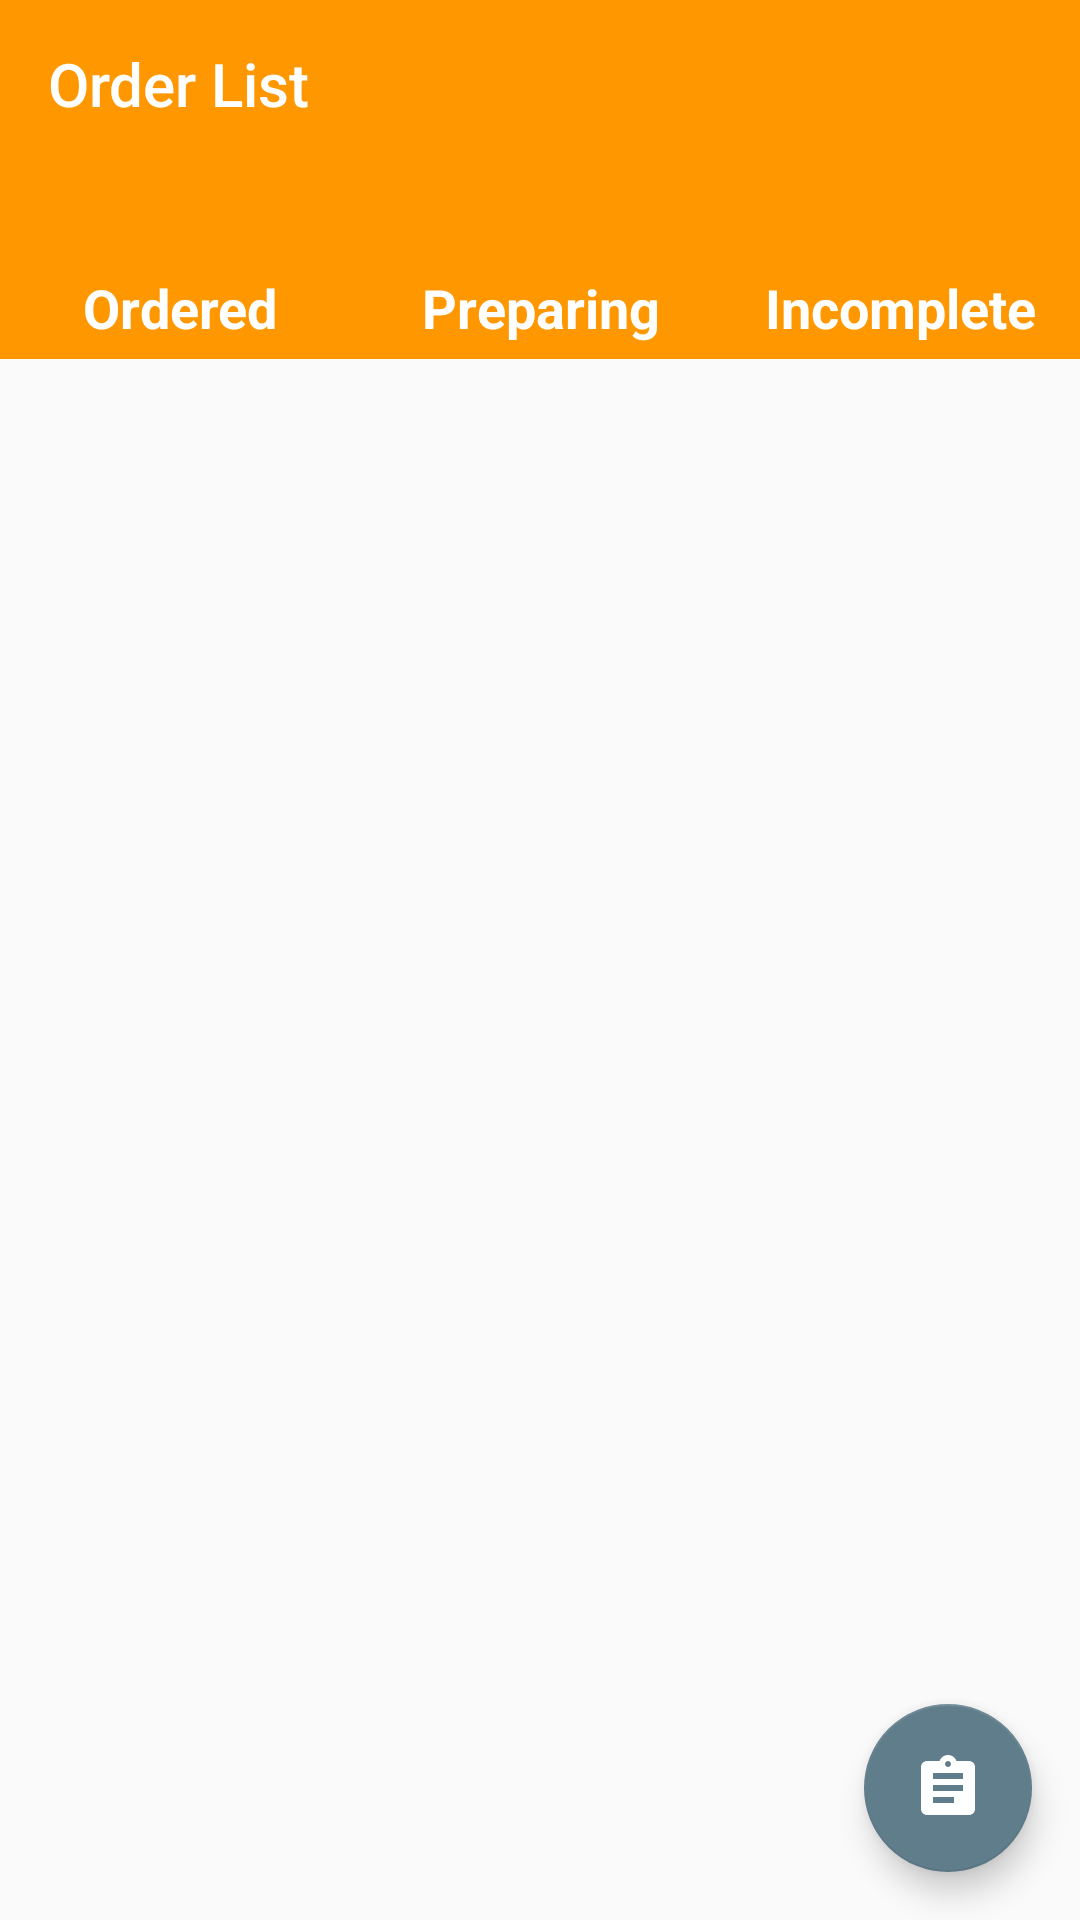

Where to tap for icons on this 1080 × 1920 app screen, as [x,y]:
assignment: [948,1788]
